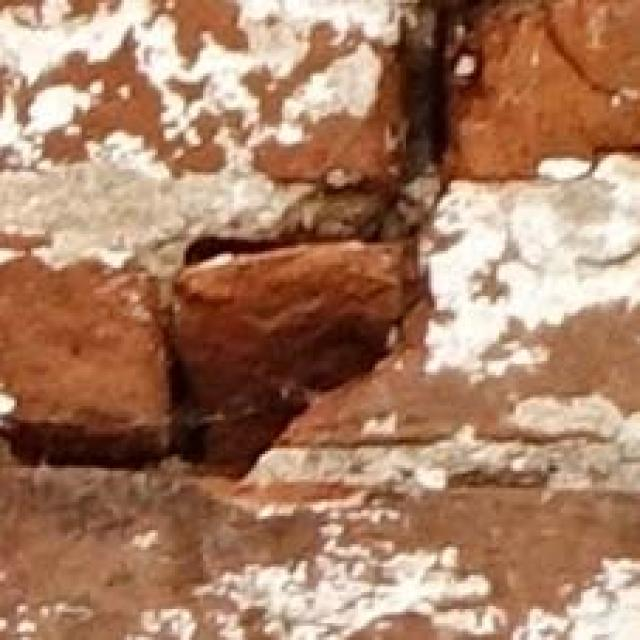Crack: (0, 0, 539, 640)
